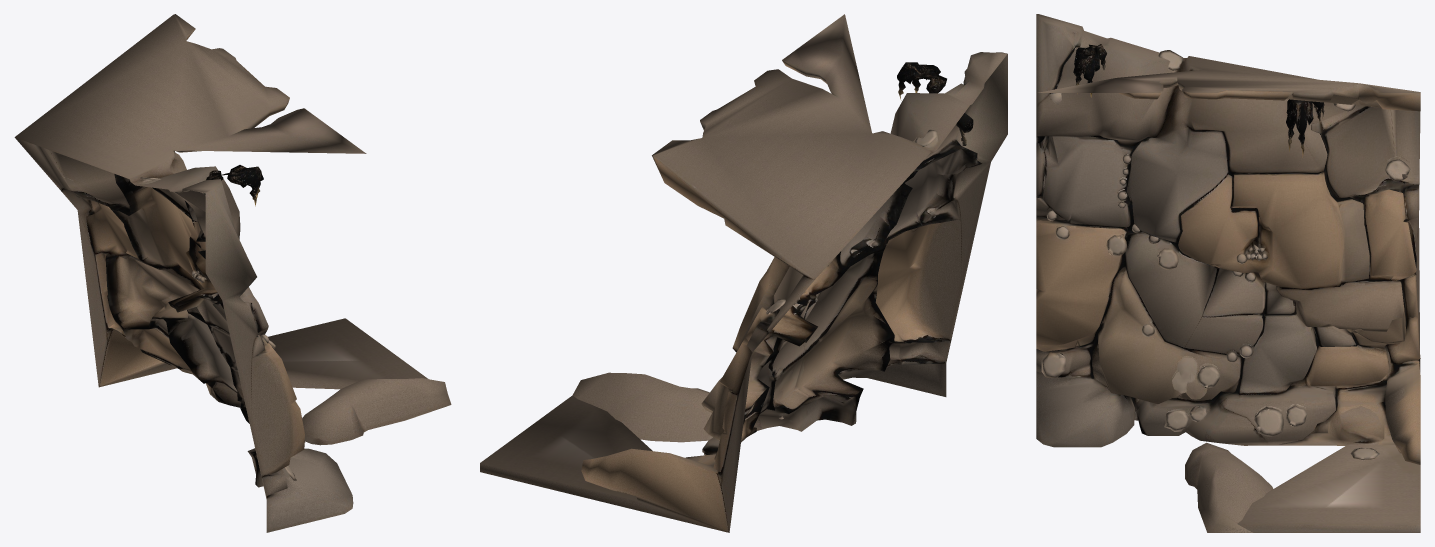
File: cave-moss-rock-wall.glb
3 renders of one model, left to right at view 1: azimuth 30°, elevation 25°; view 2: azimuth 150°, elevation 25°; view 3: azimuth 270°, elevation 25°, orthographic.
Parts seen in each view (by area): view 1: tripo_node_2a936947-9496-4695-9426-64f66cf52b41; view 2: tripo_node_2a936947-9496-4695-9426-64f66cf52b41; view 3: tripo_node_2a936947-9496-4695-9426-64f66cf52b41.
Boxes of the visible parts, x1=… form: tripo_node_2a936947-9496-4695-9426-64f66cf52b41: x1=14, y1=14, x2=451, y2=532; tripo_node_2a936947-9496-4695-9426-64f66cf52b41: x1=480, y1=14, x2=1007, y2=532; tripo_node_2a936947-9496-4695-9426-64f66cf52b41: x1=1036, y1=14, x2=1420, y2=532.
Size of the model in its own units: 0.9746 by 0.998 by 0.9746.
Materials: 1 (1 with a texture image).
